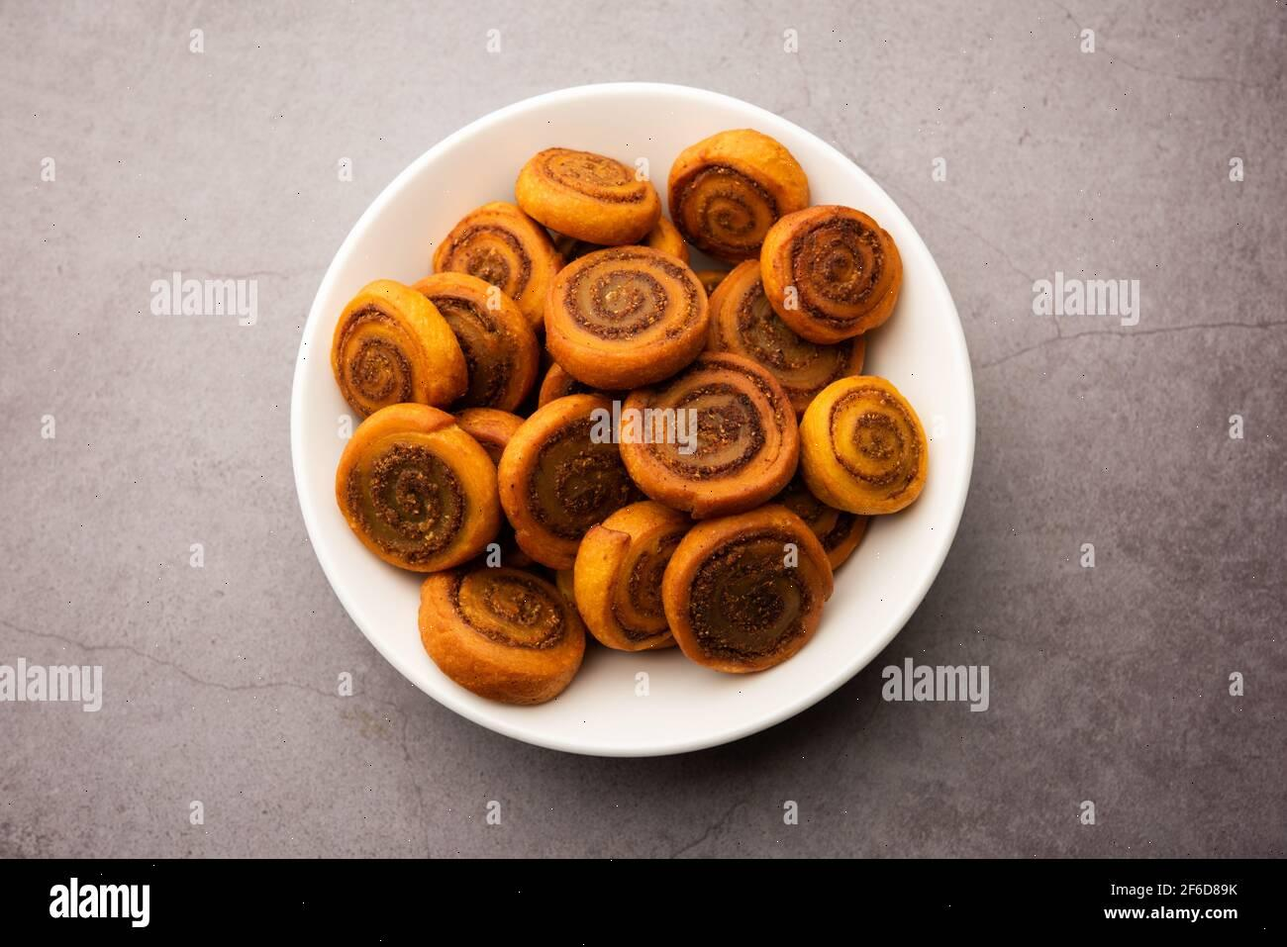bhakarwadi: (313, 136, 937, 679)
